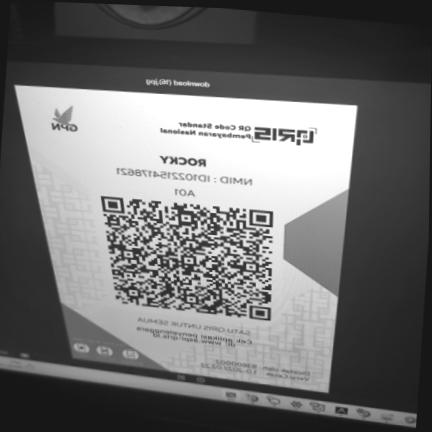Cara Pakai QRIS: (67, 335, 150, 369)
Cek Aplikasi Penyelenggara: (131, 325, 256, 351)
Dicetak Oleh: (214, 358, 313, 377)
Logo GPN: (42, 102, 85, 136)
Logo dan deskripsi QRIS: (154, 113, 325, 149)
Nama Merchant: (156, 152, 211, 169)
National Merchant ID: (110, 163, 257, 188)
QR Code: (94, 193, 279, 326)
Slogan: (132, 314, 254, 338)
Terminal ID: (170, 186, 199, 199)
Versi Cetak: (198, 361, 312, 383)
